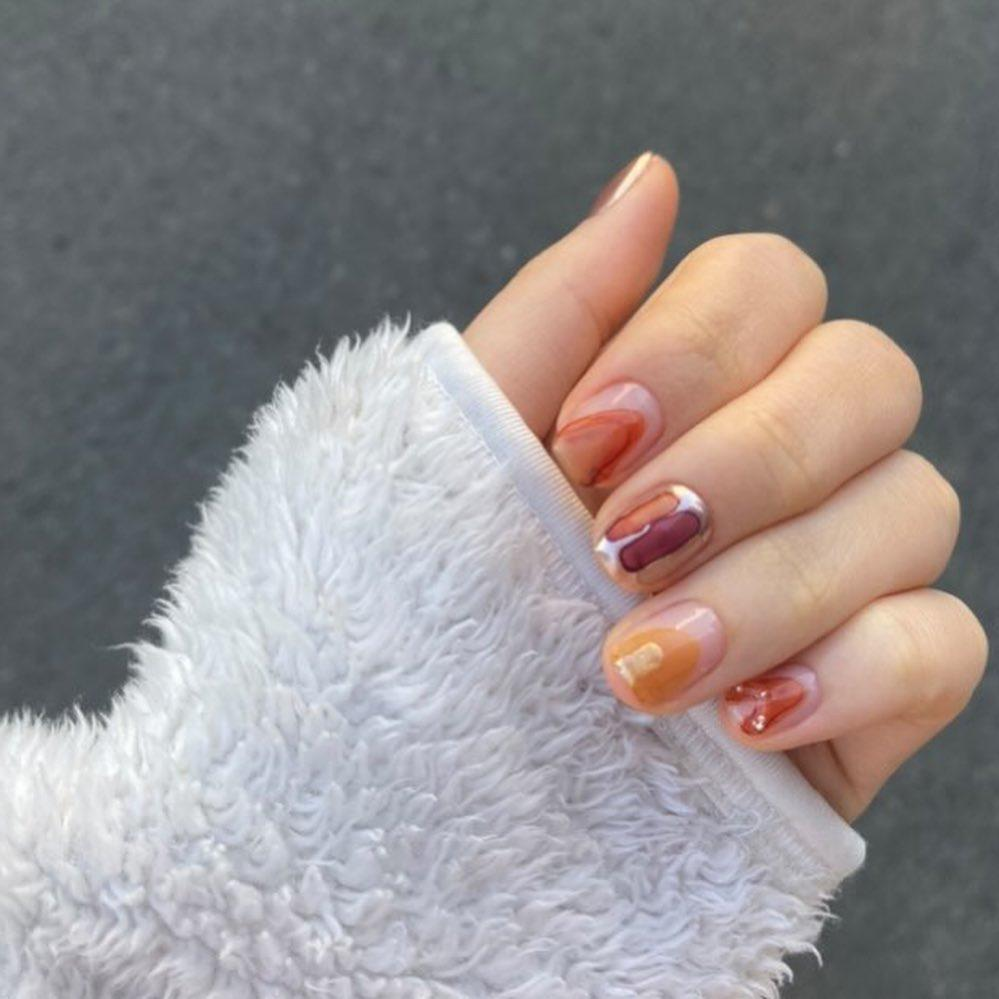nail: (600, 598, 726, 713), (549, 378, 663, 488), (593, 482, 710, 587), (721, 662, 819, 740), (590, 148, 654, 213)
